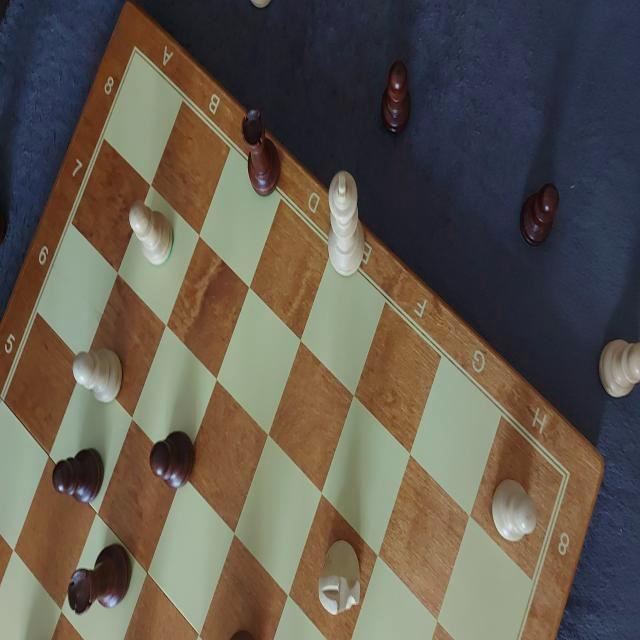chess-table-corners: (122, 29, 152, 74), (552, 454, 580, 502)
